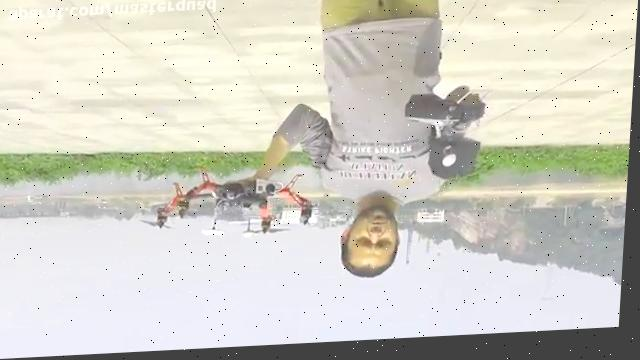drone: (135, 167, 323, 250)
